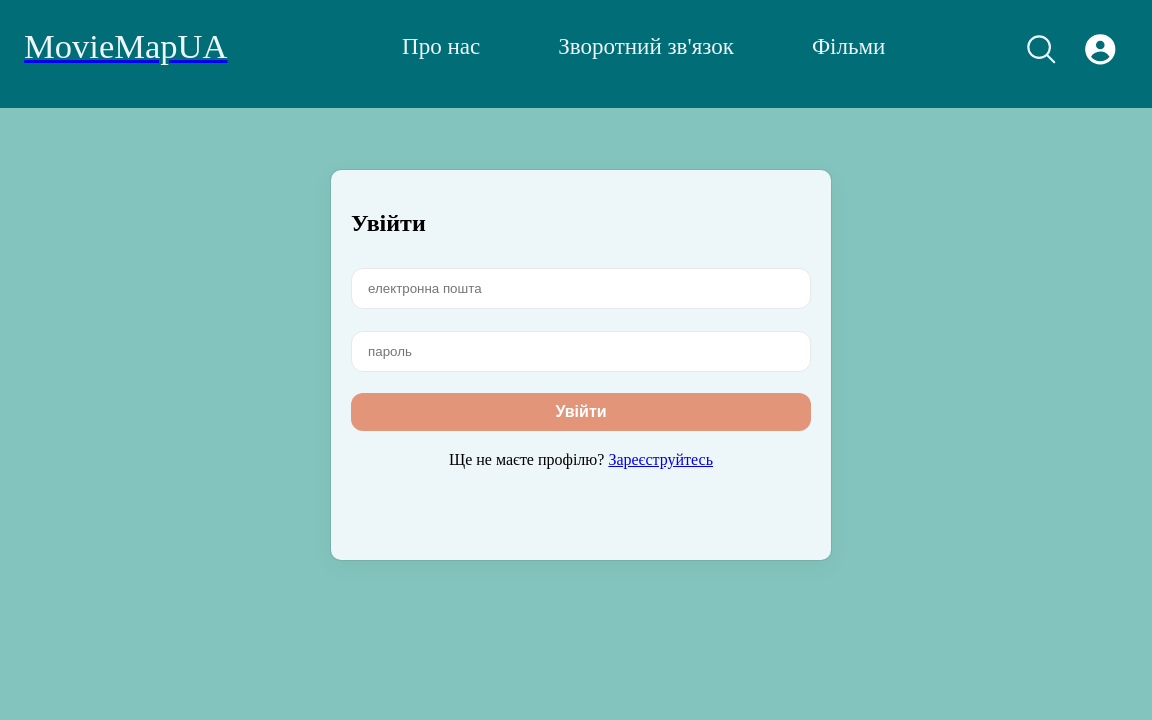
Test: LoginPage tests › показує помилку при неправильному логіні
Type "test@test.com" into the field with placeholder "електронна пошта". click: (581, 288)
box: [351, 268, 811, 309]
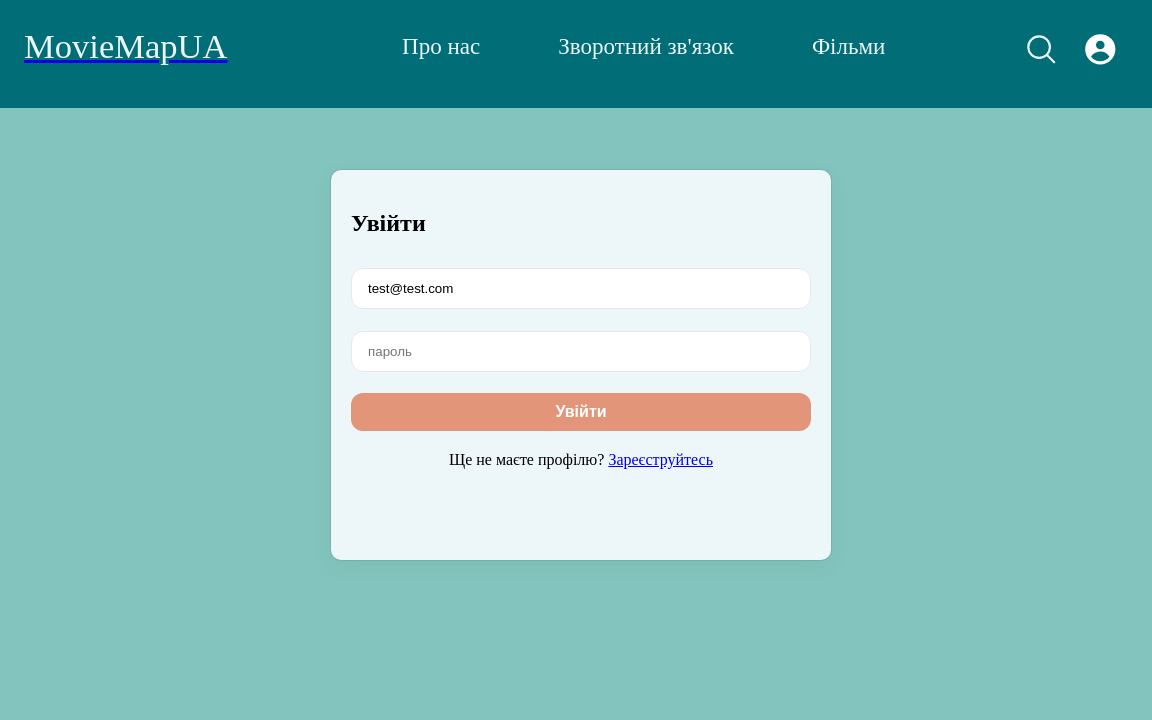
Type "123456" into the password field with placeholder "пароль". click: (581, 351)
box: [351, 331, 811, 372]
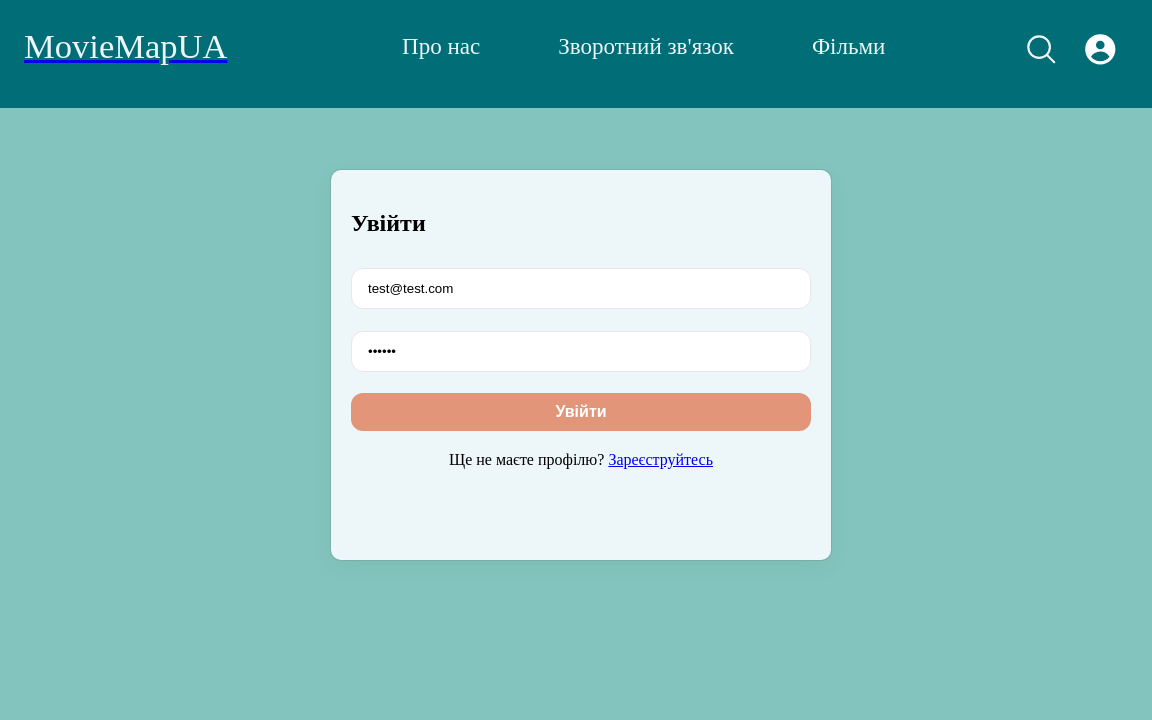
Click the button. click: (581, 412)
box: [351, 393, 811, 431]
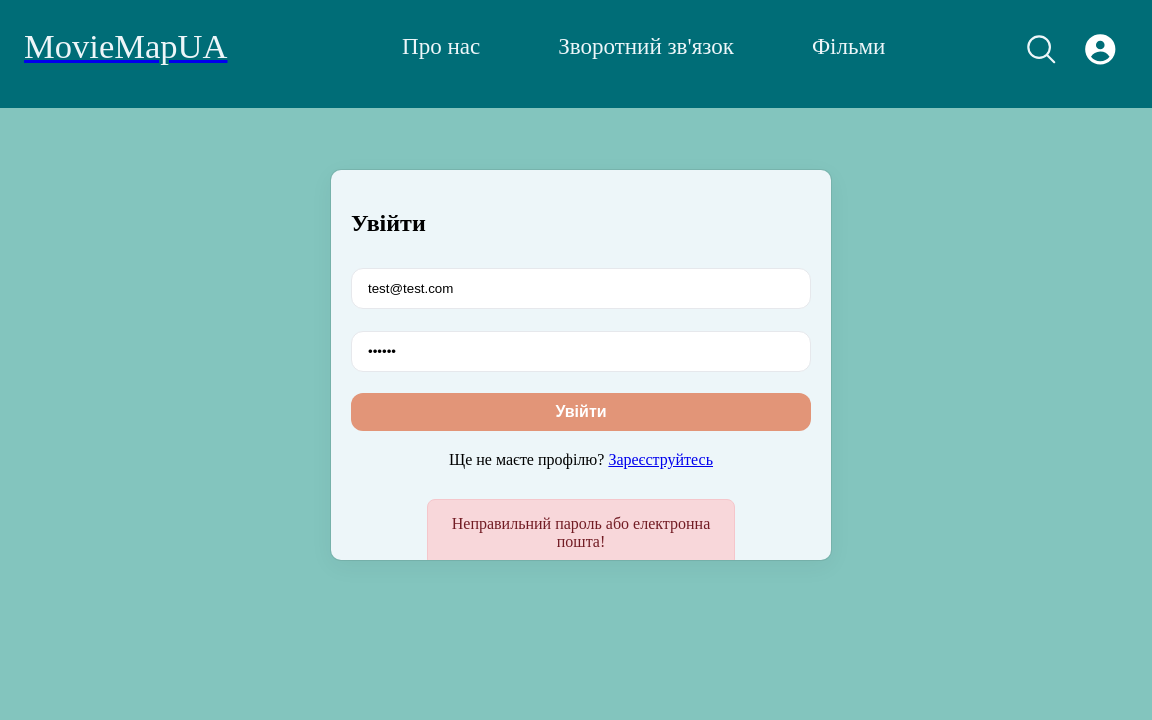
Expected: the text "Неправильний пароль або електронна пошта!" is shown, [427, 499, 735, 560]
